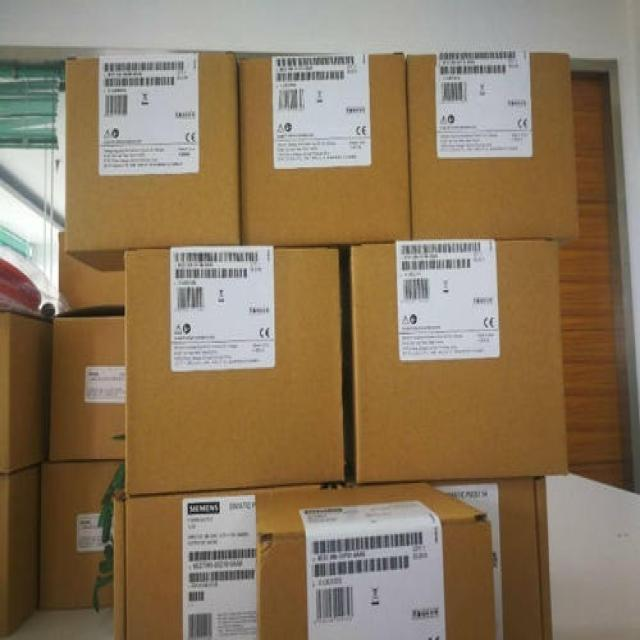box: (125, 249, 347, 498), (351, 241, 570, 484), (254, 481, 498, 638), (64, 50, 242, 249), (240, 54, 414, 244), (405, 54, 579, 241), (114, 490, 258, 637), (428, 479, 554, 638), (39, 459, 126, 611), (50, 314, 124, 461), (0, 311, 56, 476), (0, 466, 40, 631), (58, 235, 125, 312)
